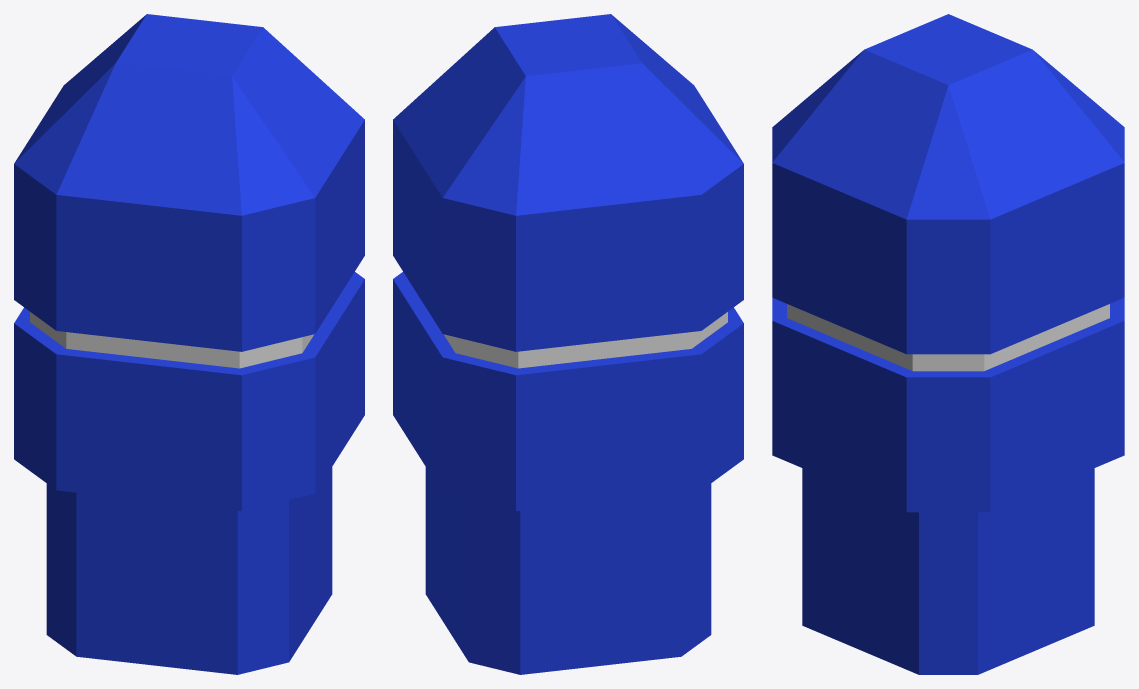
Rendered from Shape_Medium_01.fbx.
3 views of the same model, side by side, from view 1: azimuth 30°, elevation 25°; view 2: azimuth 150°, elevation 25°; view 3: azimuth 270°, elevation 25° (orthographic).
Parts seen in each view (by area): view 1: Shape_Medium_01; view 2: Shape_Medium_01; view 3: Shape_Medium_01.
Part boxes in pixels (<box>): Shape_Medium_01: <box>14,14,364,674</box>; Shape_Medium_01: <box>393,14,743,674</box>; Shape_Medium_01: <box>772,14,1124,674</box>.
Size of the model in its own units: 2 by 3.53 by 2.
